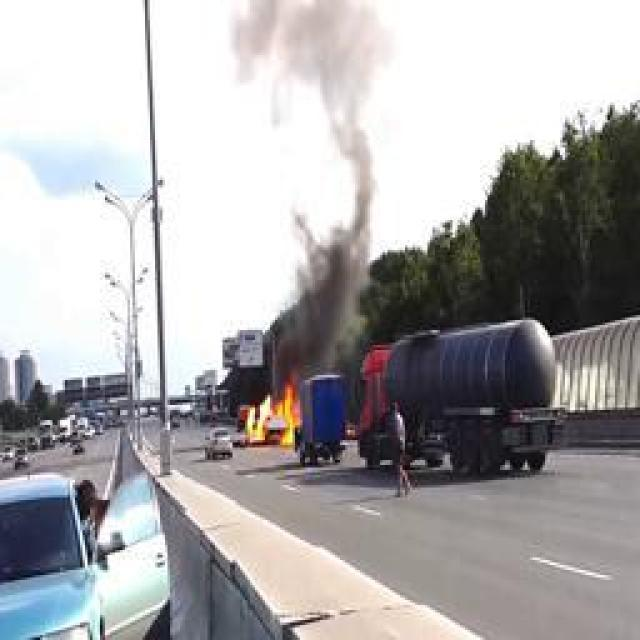Fire: (245, 382, 303, 446)
